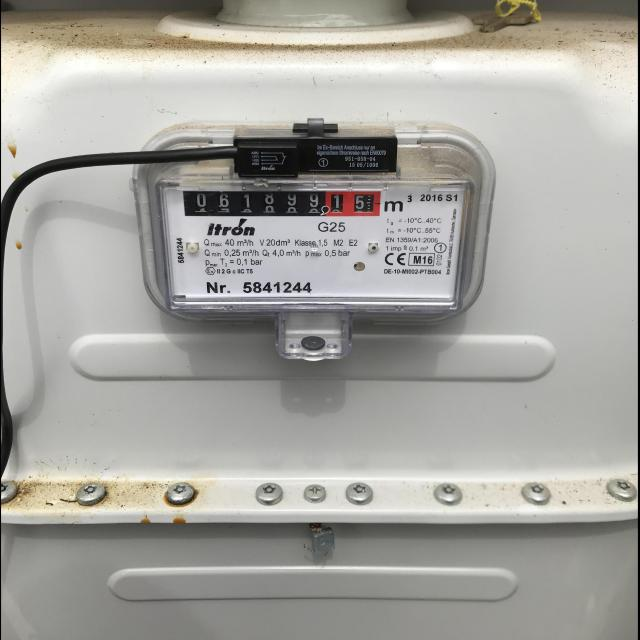gaz_meter: (152, 167, 472, 308)
indication: (180, 187, 380, 218)
